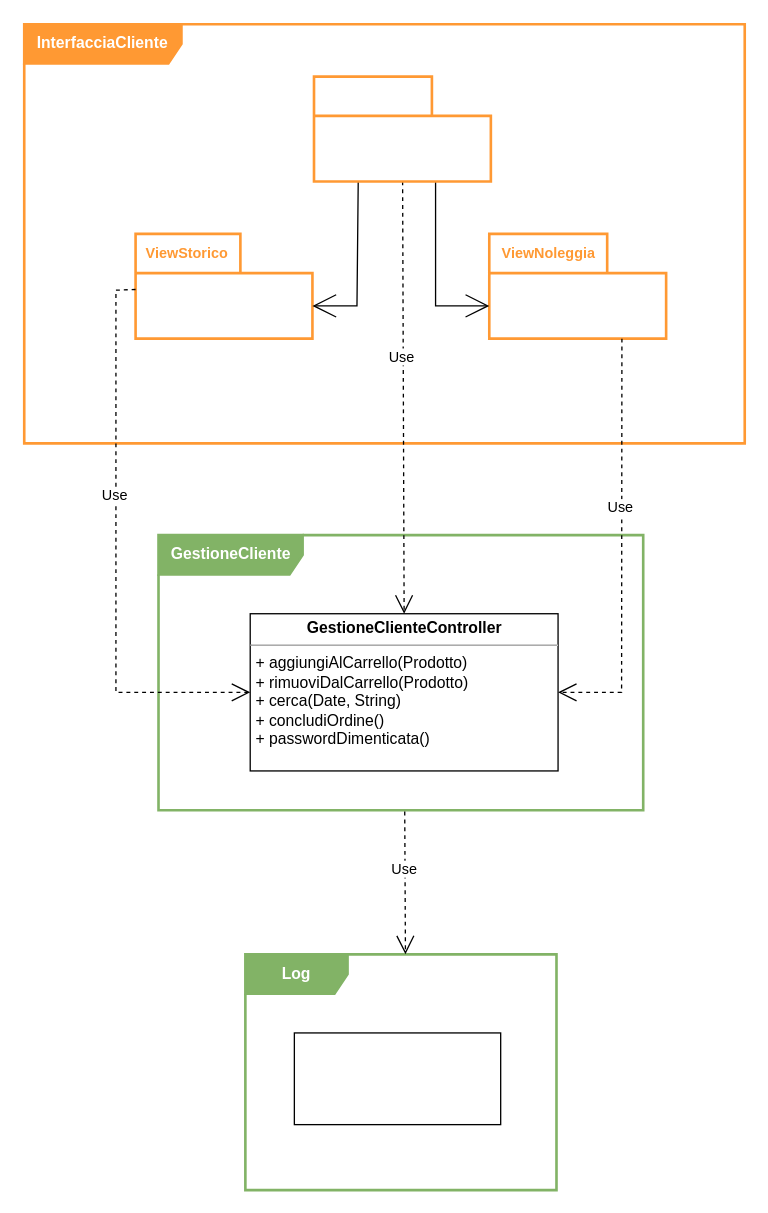
This 768x1213 diagram has some shape labels left out. Here are the shapes that lost their labels. From the top down, the centre of each, then its label:
(x=402, y=128): HomeCliente
(x=397, y=1078): Logger + aggiungiVoce(voce)
